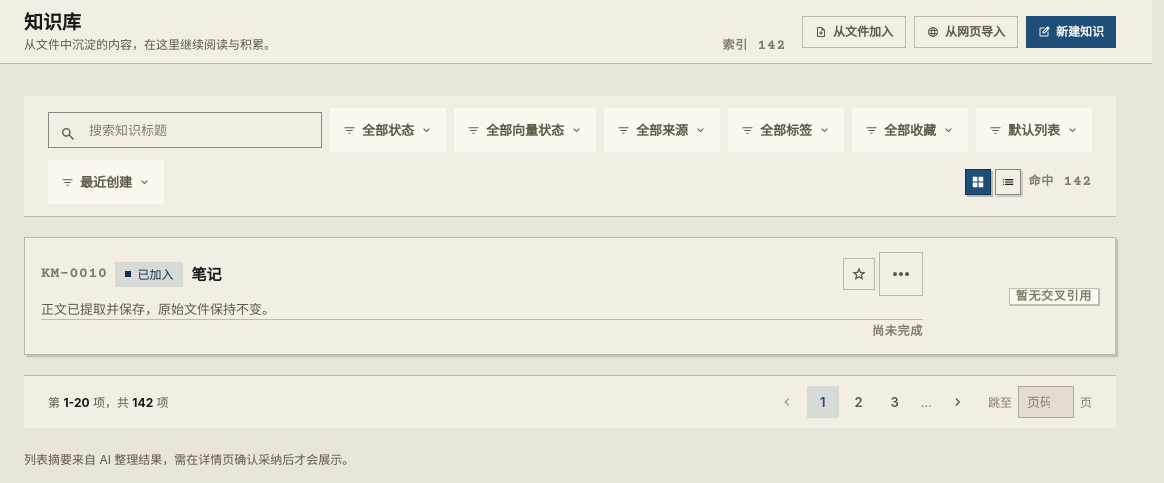
Scenario: KnowledgeLibrary › 工具栏显示「命中 N / 总数」，无筛选时只显示命中数
Expected: the text with test id "hit-count" reads "命中 142", [1029, 174, 1092, 190]
Step 1. Click the button with aria-label "筛选归档" → [1034, 130], box [976, 108, 1092, 152]
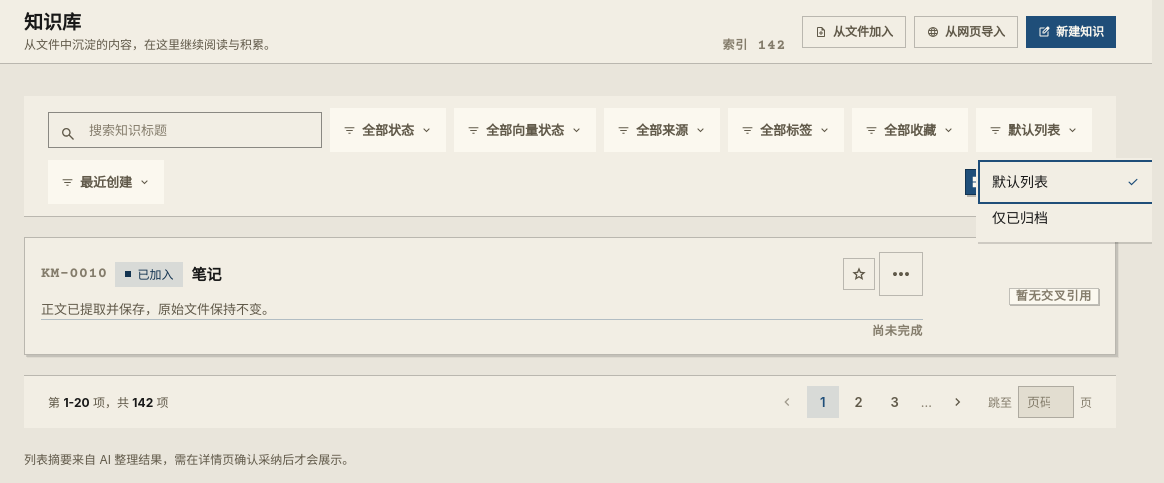
Step 2. Click the menu item "仅已归档" → [1066, 218], box [982, 200, 1150, 236]
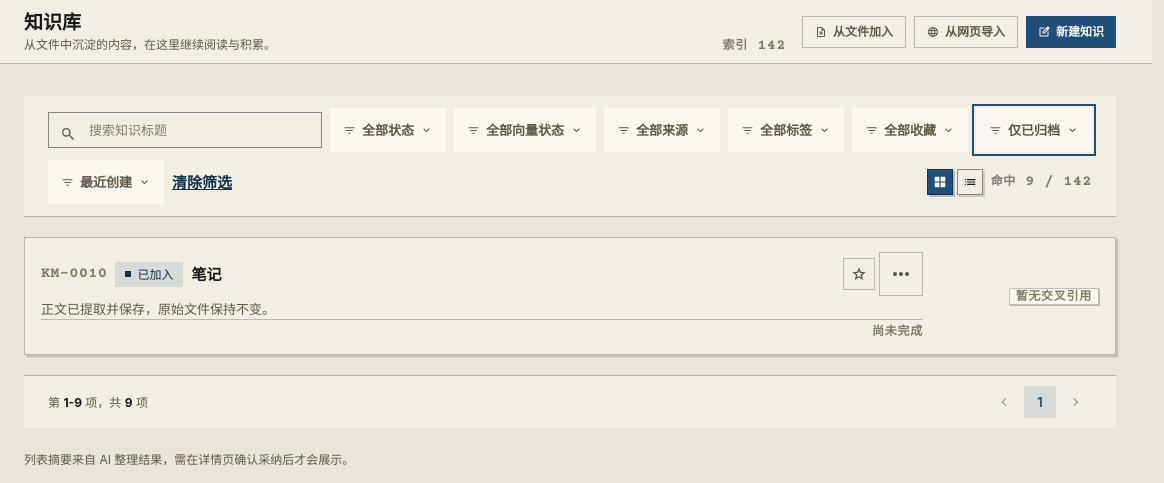
Result: the text with test id "hit-count" reads "命中 9 / 142" at [991, 174, 1092, 190]
